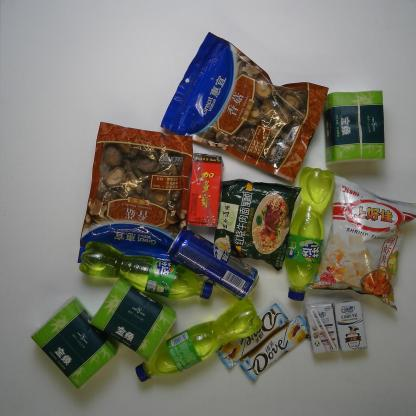Alcohol: (160, 221, 264, 303)
Chocolate: (213, 299, 293, 372), (233, 312, 313, 383)
Dried Food: (157, 29, 328, 186), (74, 121, 195, 279)
Drink: (128, 294, 266, 388), (76, 239, 214, 302), (283, 163, 339, 303), (179, 150, 224, 231)
Instant Noodles: (208, 176, 302, 272)
Milk: (331, 298, 369, 356), (302, 301, 340, 359)
Puffed Food: (303, 173, 416, 310)
Tissue: (28, 292, 117, 392), (86, 276, 180, 366), (322, 88, 387, 168)
